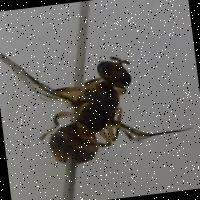Oriental-fruit-fly: (0, 11, 200, 180)
